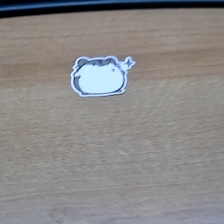mouse: (69, 55, 137, 98)
